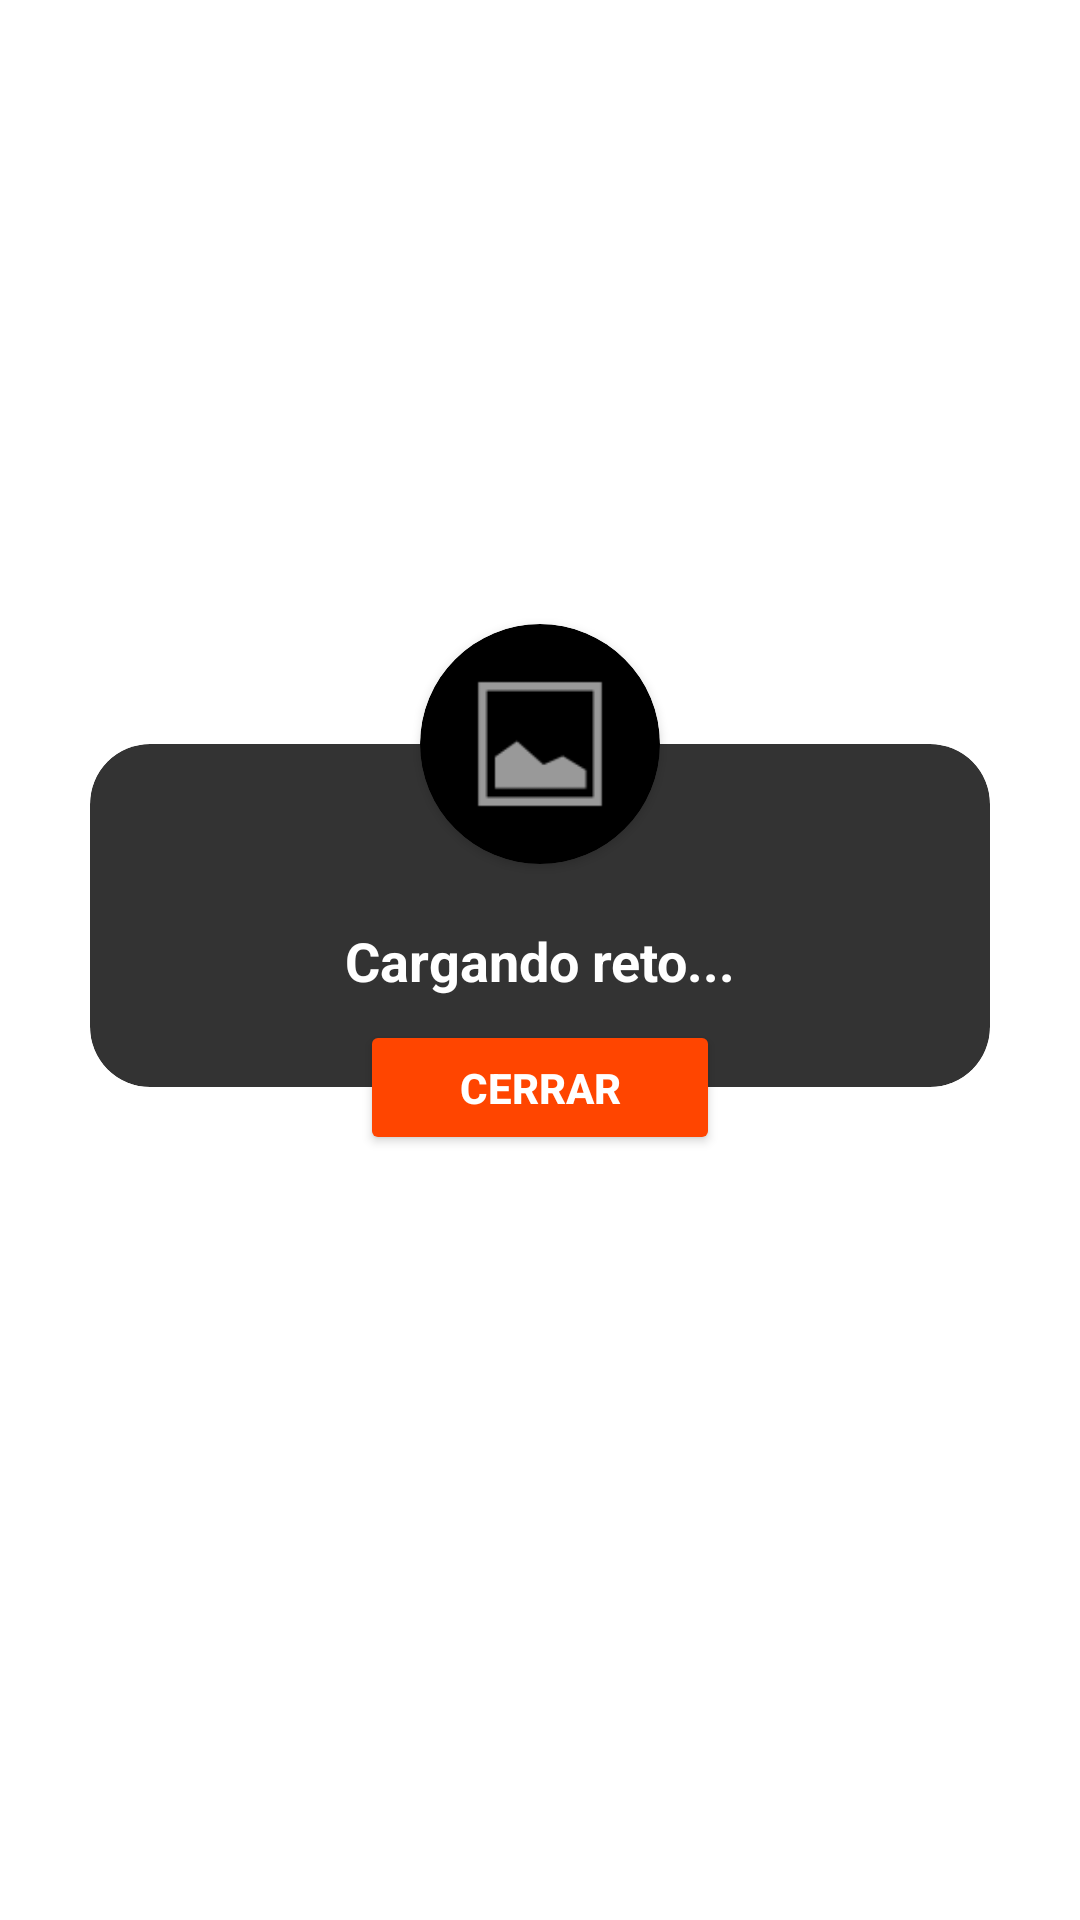

Where to tap for icons on this 1080px×1920px app screen, as (x=x, y=y):
gallery: (x=540, y=744)
